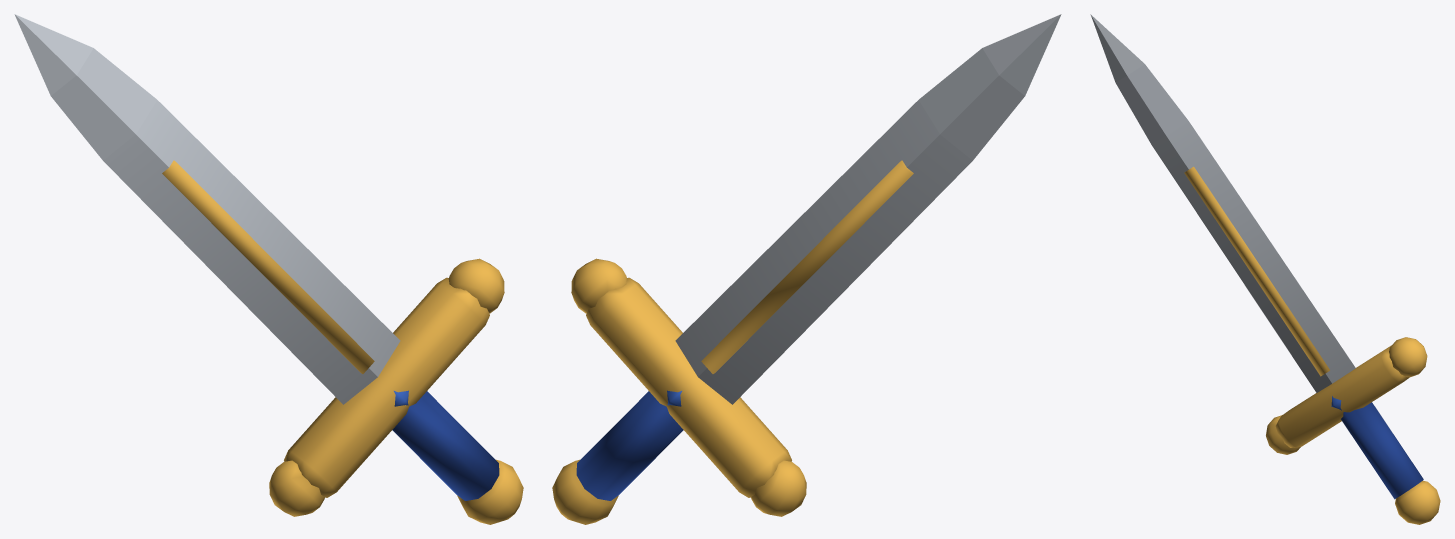
The model's file is icon_sword.glb.
The picture shows the model from 3 angles, left to right: view 1: azimuth 30°, elevation 25°; view 2: azimuth 150°, elevation 25°; view 3: azimuth 330°, elevation 25°; orthographic projection. The views are drawn at different scales.
Parts seen in each view (by area): view 1: Sword; view 2: Sword; view 3: Sword.
Boxes of the visible parts, x1,y1,x2,y2 form: Sword: (14,14,523,524); Sword: (552,14,1061,524); Sword: (1090,14,1440,524).
Bounding box in the file's own units: 0.8227 × 0.9715 × 0.105.
Materials: 1 (1 with a texture image).
